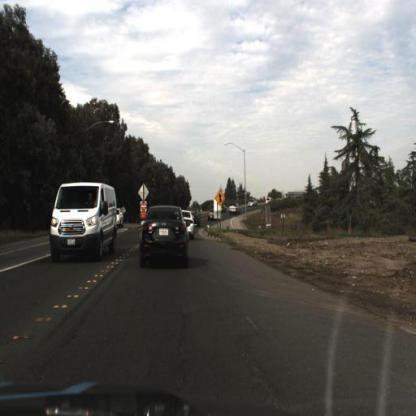car: (49, 182, 119, 265), (139, 203, 191, 273), (182, 204, 199, 245), (229, 199, 242, 215)
